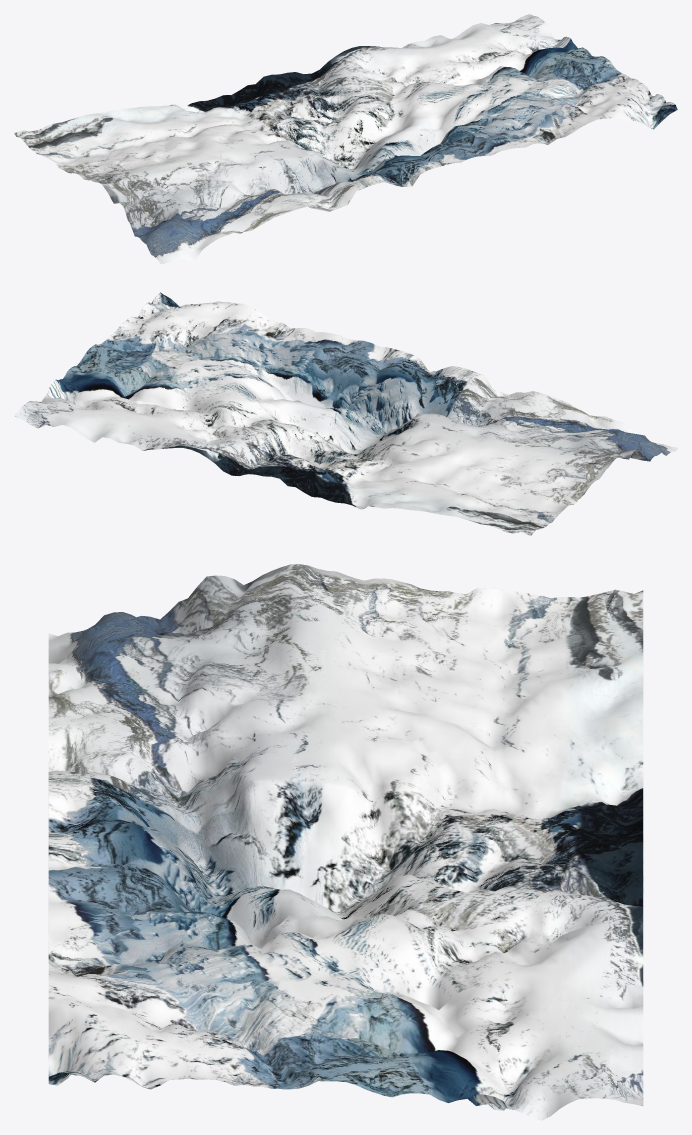
Rendered from terr.obj.
The picture shows the model from 3 angles, top to bottom: view 1: azimuth 30°, elevation 25°; view 2: azimuth 150°, elevation 25°; view 3: azimuth 270°, elevation 25°; orthographic projection. The views are drawn at different scales.
Parts seen in each view (by area): view 1: EXPORT_GOOGLE_SAT_WM; view 2: EXPORT_GOOGLE_SAT_WM; view 3: EXPORT_GOOGLE_SAT_WM.
Boxes of the visible parts, x1,y1,x2,y2 form: EXPORT_GOOGLE_SAT_WM: [14, 14, 677, 263]; EXPORT_GOOGLE_SAT_WM: [14, 292, 677, 535]; EXPORT_GOOGLE_SAT_WM: [48, 564, 643, 1120].
Bounding box in the file's own units: 39136 × 4197 × 19568.
